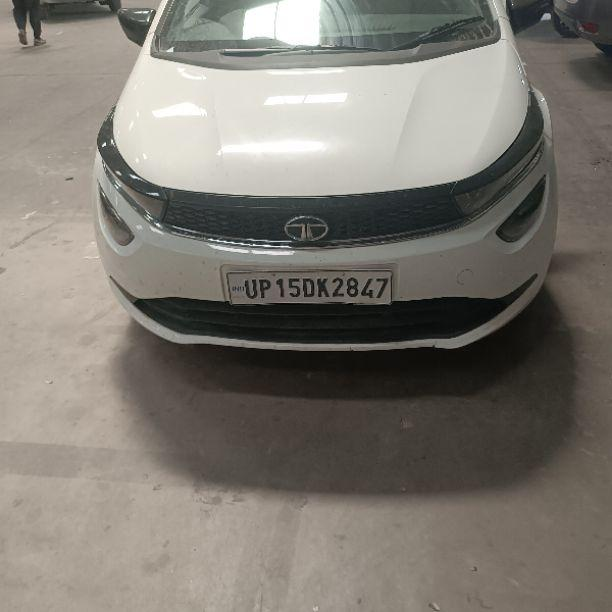license_plate: (221, 265, 393, 307)
